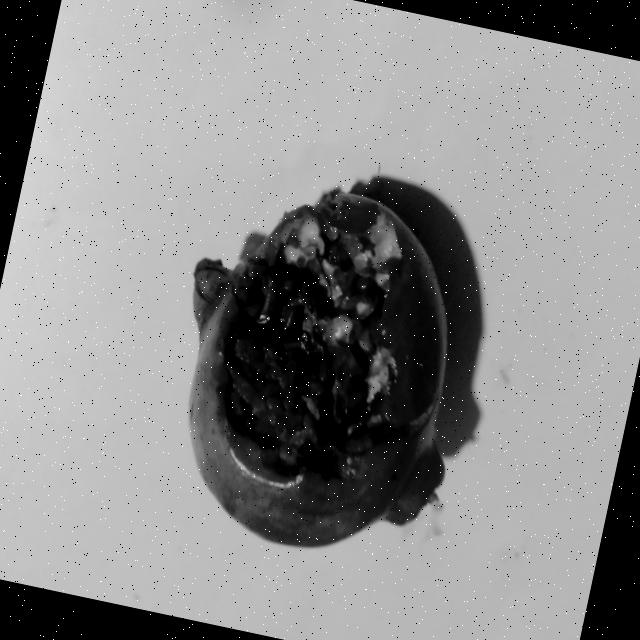Rotten: (136, 154, 501, 581)
